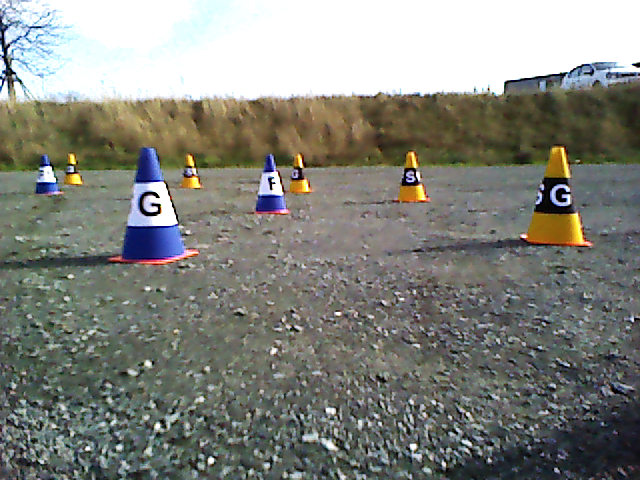bluecone: (122, 146, 183, 257), (257, 154, 285, 211), (34, 155, 60, 193)
yellowcone: (529, 146, 581, 239), (398, 152, 426, 199), (288, 154, 310, 189), (180, 154, 201, 187), (62, 154, 82, 183)
